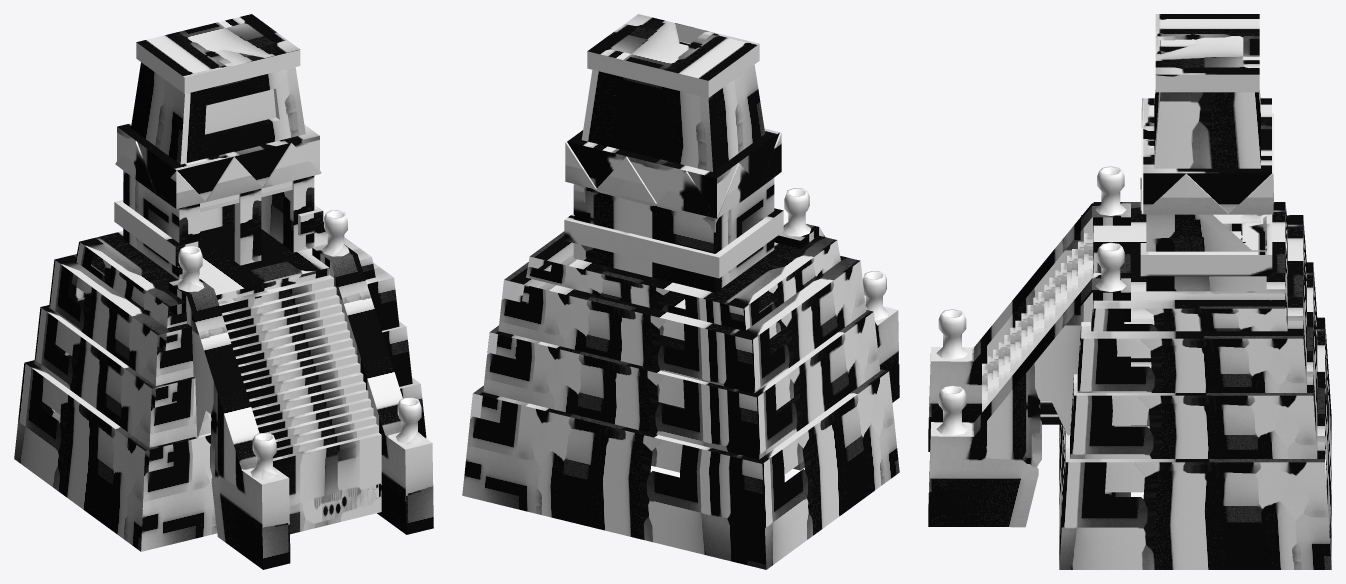
The model's file is mex_temple.dae.
The picture shows the model from 3 angles, left to right: view 1: azimuth 30°, elevation 25°; view 2: azimuth 150°, elevation 25°; view 3: azimuth 270°, elevation 25°; orthographic projection. The views are drawn at different scales.
Parts seen in each view (by area): view 1: Temple; view 2: Temple; view 3: Temple.
Part boxes in pixels (bbox=[...]): Temple: bbox=[14, 14, 433, 569]; Temple: bbox=[462, 14, 899, 569]; Temple: bbox=[928, 14, 1331, 569].
Size of the model in its own units: 21.3 by 23.92 by 29.47.
